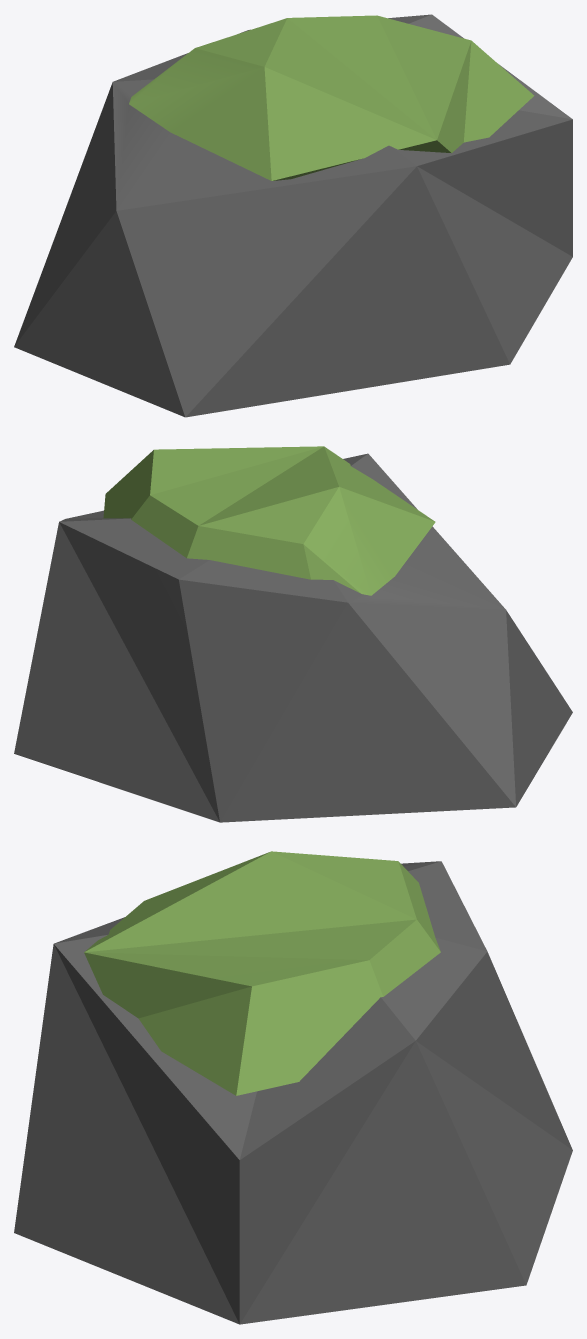
Rendered from Rock_Medium_Moss_01.fbx.
The picture shows the model from 3 angles, top to bottom: view 1: azimuth 30°, elevation 25°; view 2: azimuth 150°, elevation 25°; view 3: azimuth 270°, elevation 25°; orthographic projection. The views are drawn at different scales.
Visible parts, largest first — view 1: Rock_Medium_Moss_01; view 2: Rock_Medium_Moss_01; view 3: Rock_Medium_Moss_01.
Part boxes in pixels (box(x1,y1,x2,y2)): Rock_Medium_Moss_01: box(14, 14, 572, 417); Rock_Medium_Moss_01: box(14, 446, 572, 822); Rock_Medium_Moss_01: box(14, 851, 572, 1324).
Bounding box in the file's own units: 1881 × 1090 × 1491.
